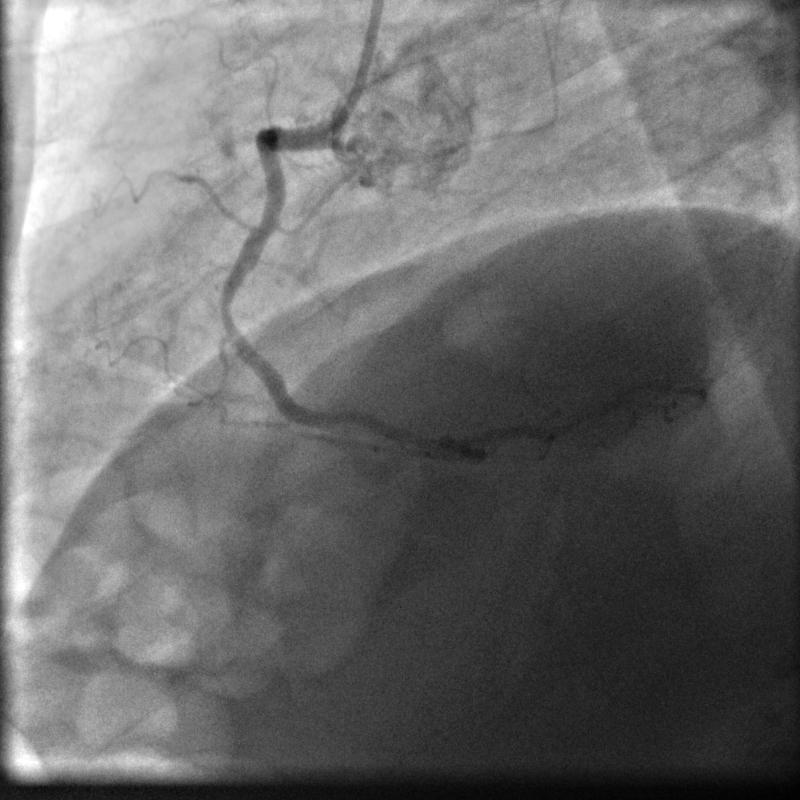Stenosis: (218, 292, 242, 323)
